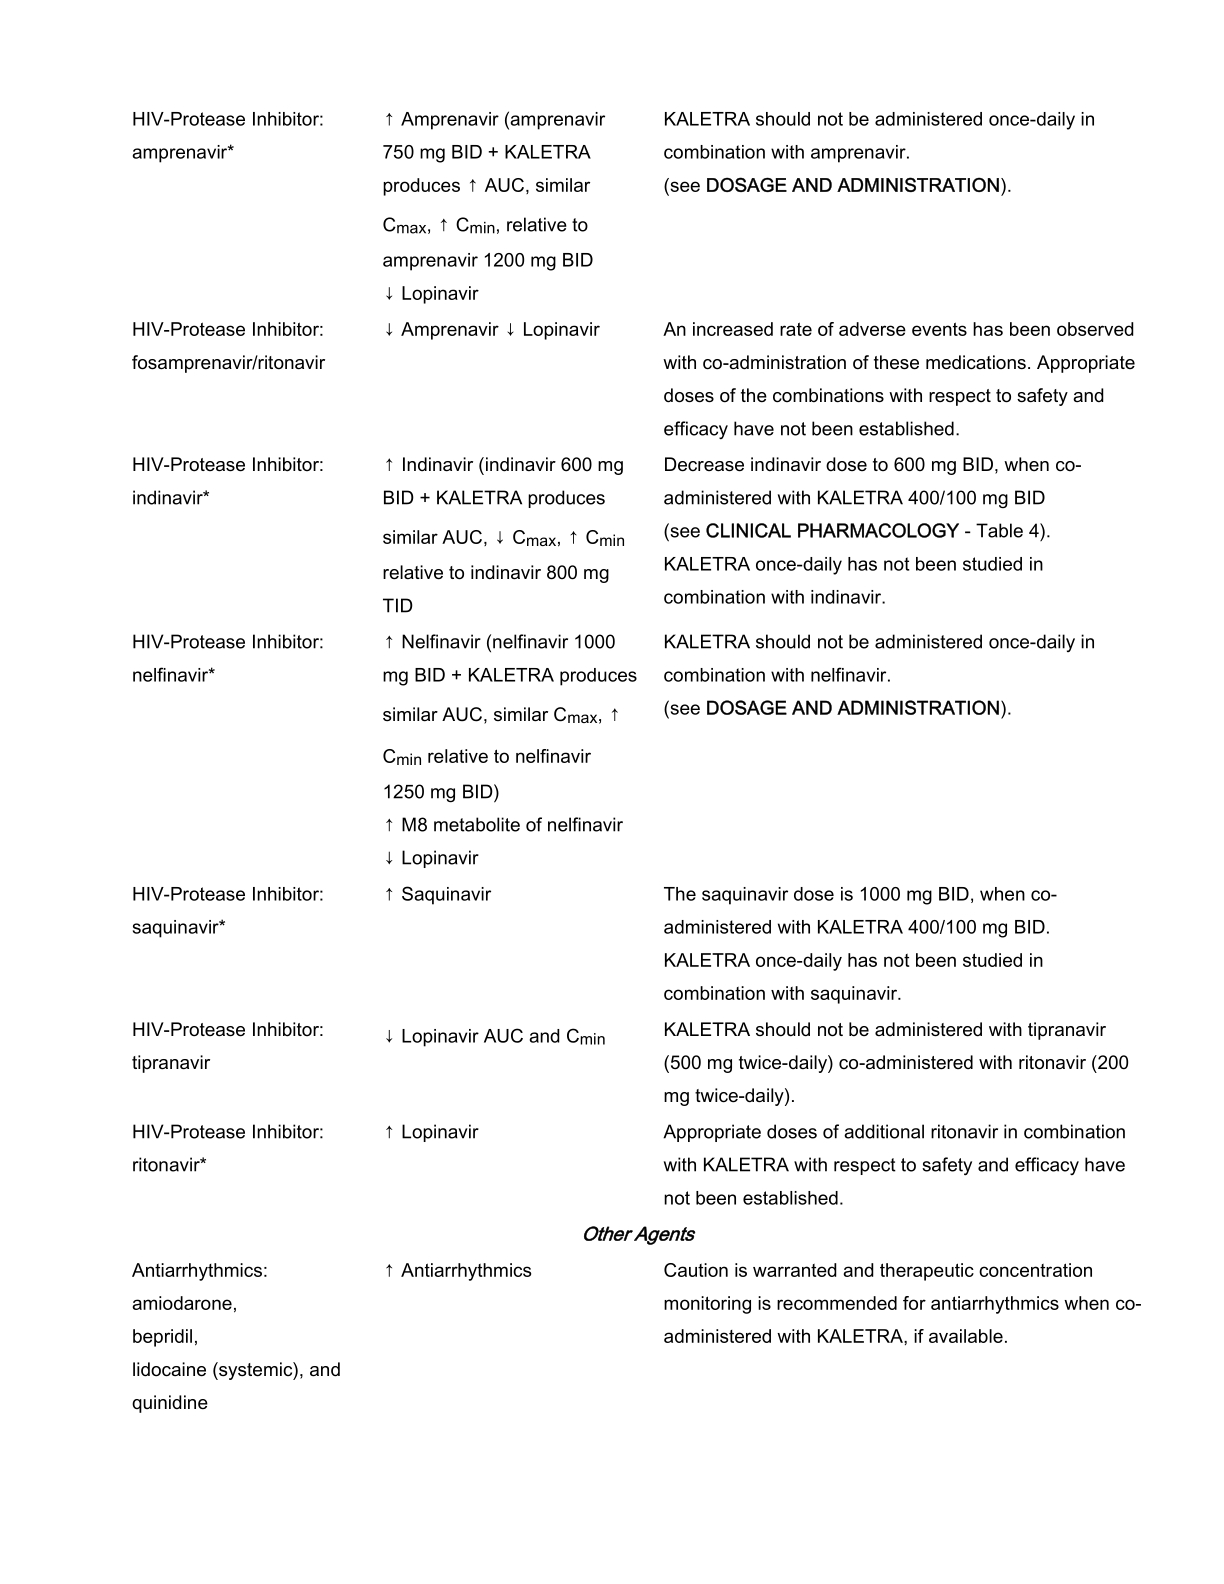nolines: (129, 105, 1147, 1418)
